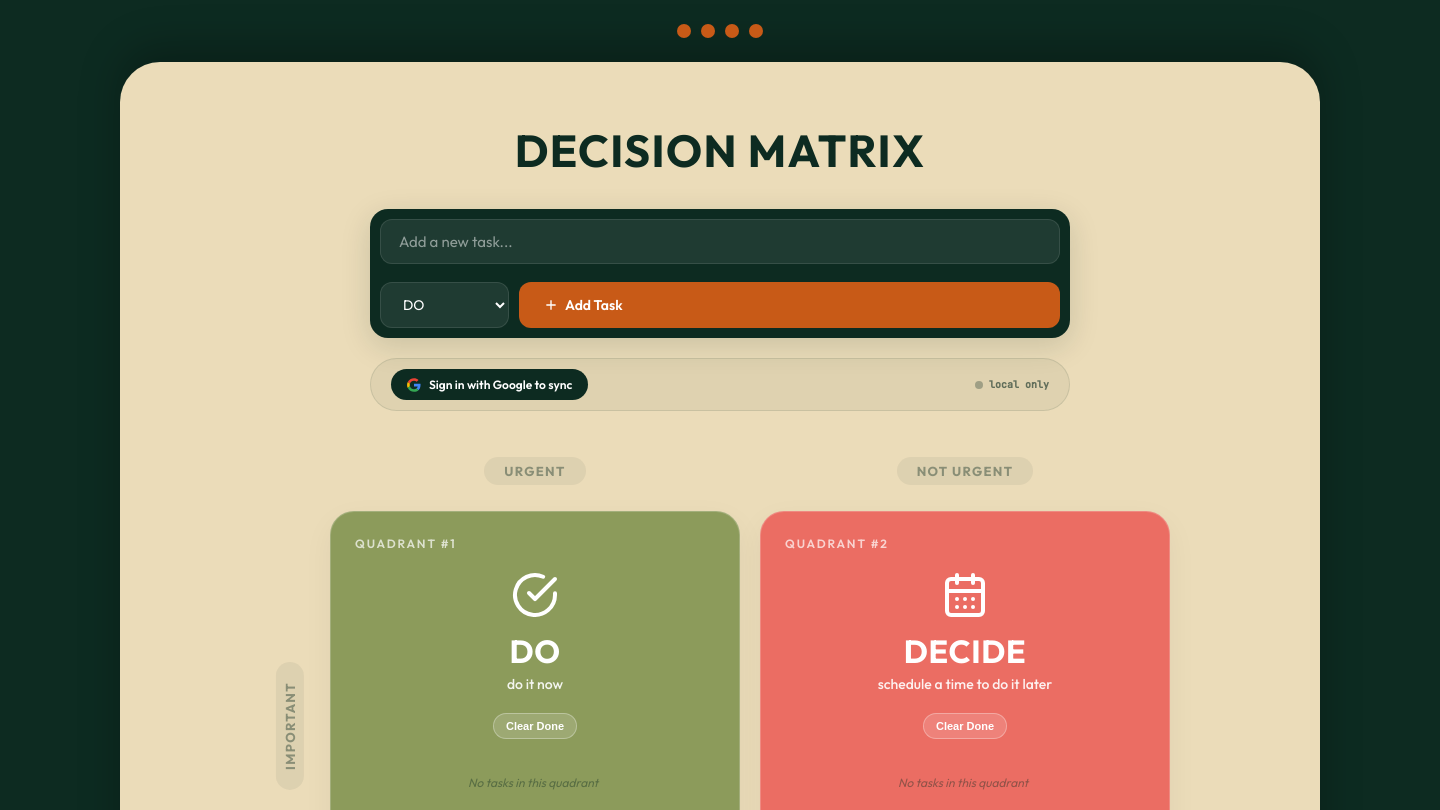
Test: App Integration Tests › cycles a task to the Schedule quadrant (requiring date)
Add task to 'Do'
Type "Book flight" into the field with placeholder "Add a new task..." at x=720, y=242, box [380, 219, 1060, 264]
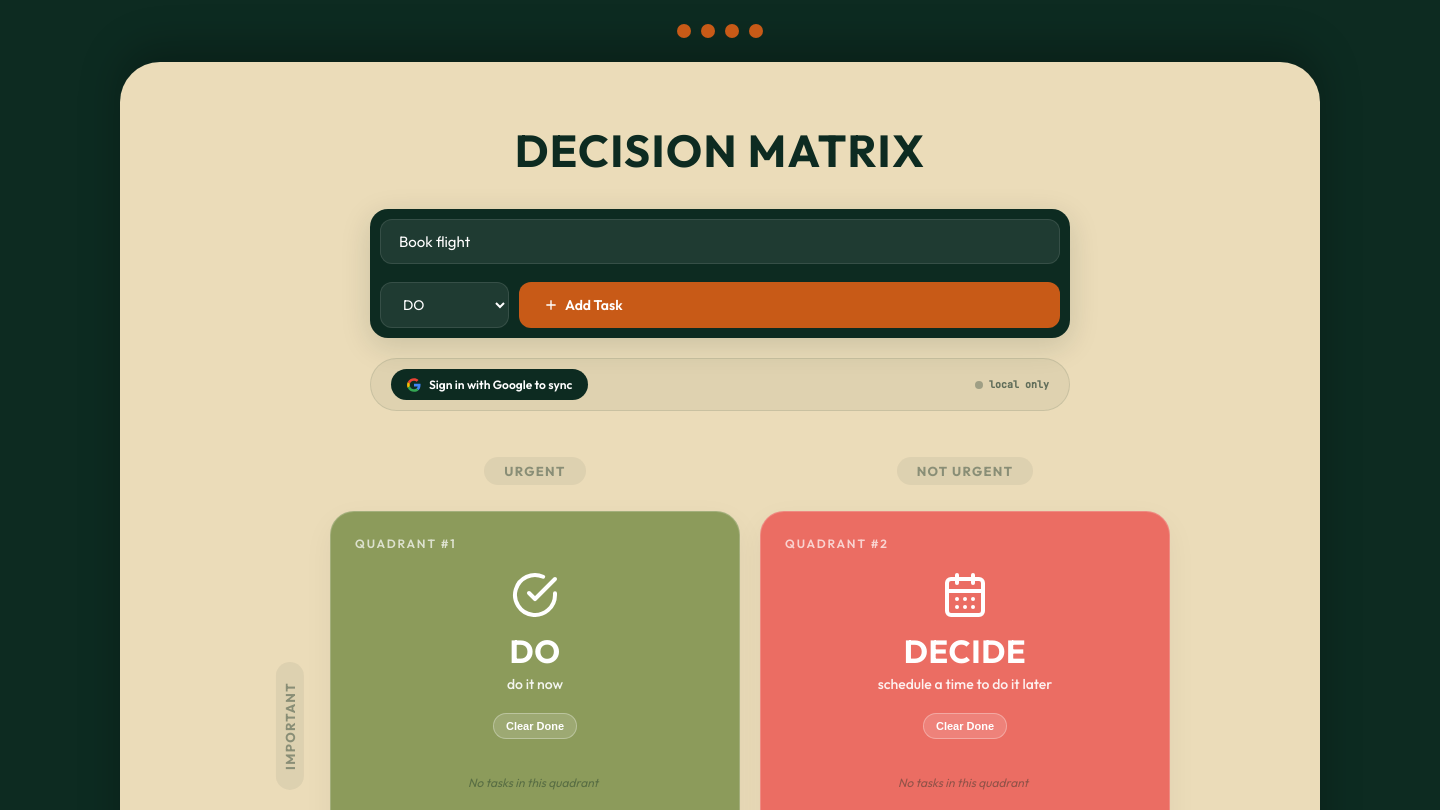
Click the button "Add Task" at x=594, y=305, box [519, 282, 1060, 328]
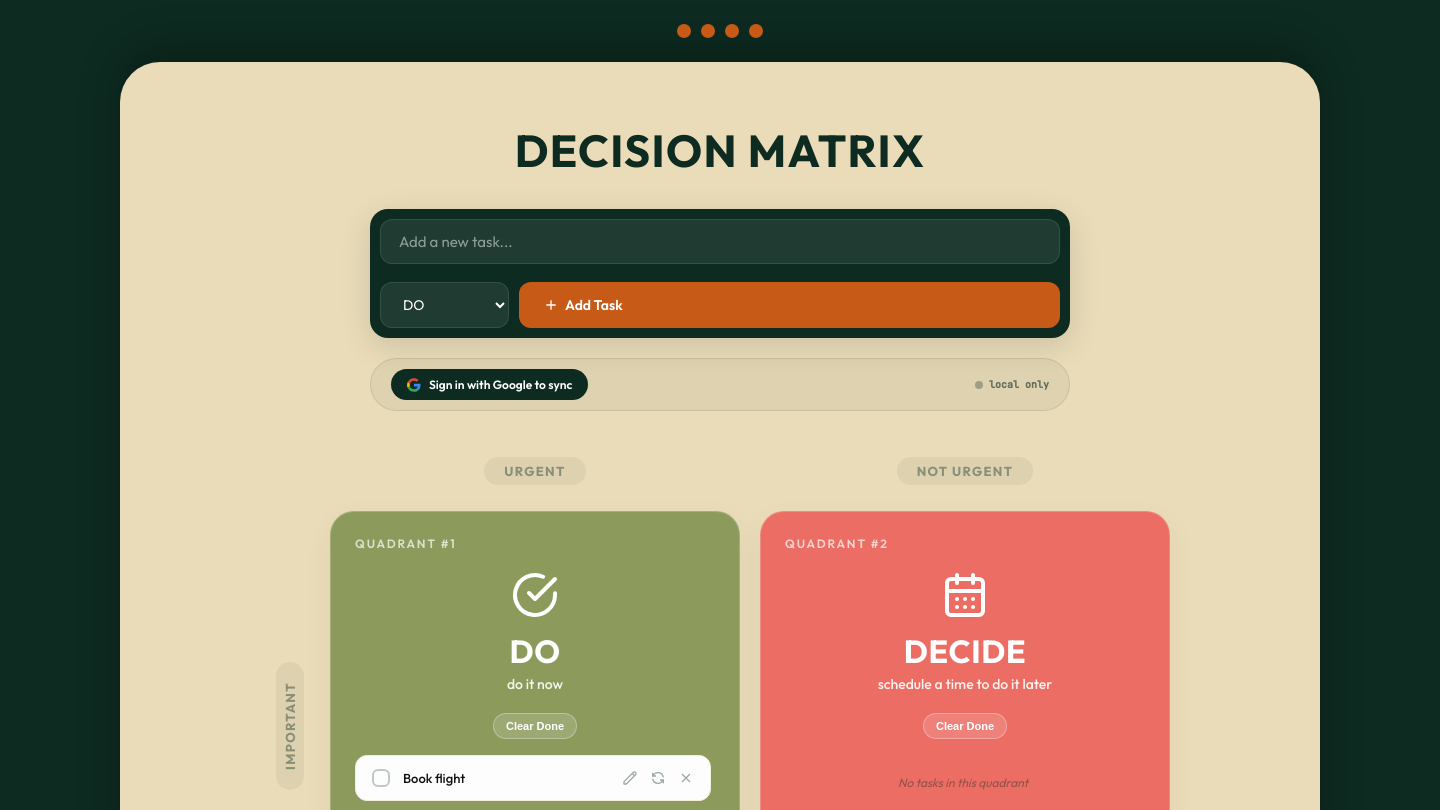
Click Cycle button
Click the button titled "Cycle Quadrant" at x=658, y=778, box [646, 766, 670, 790]
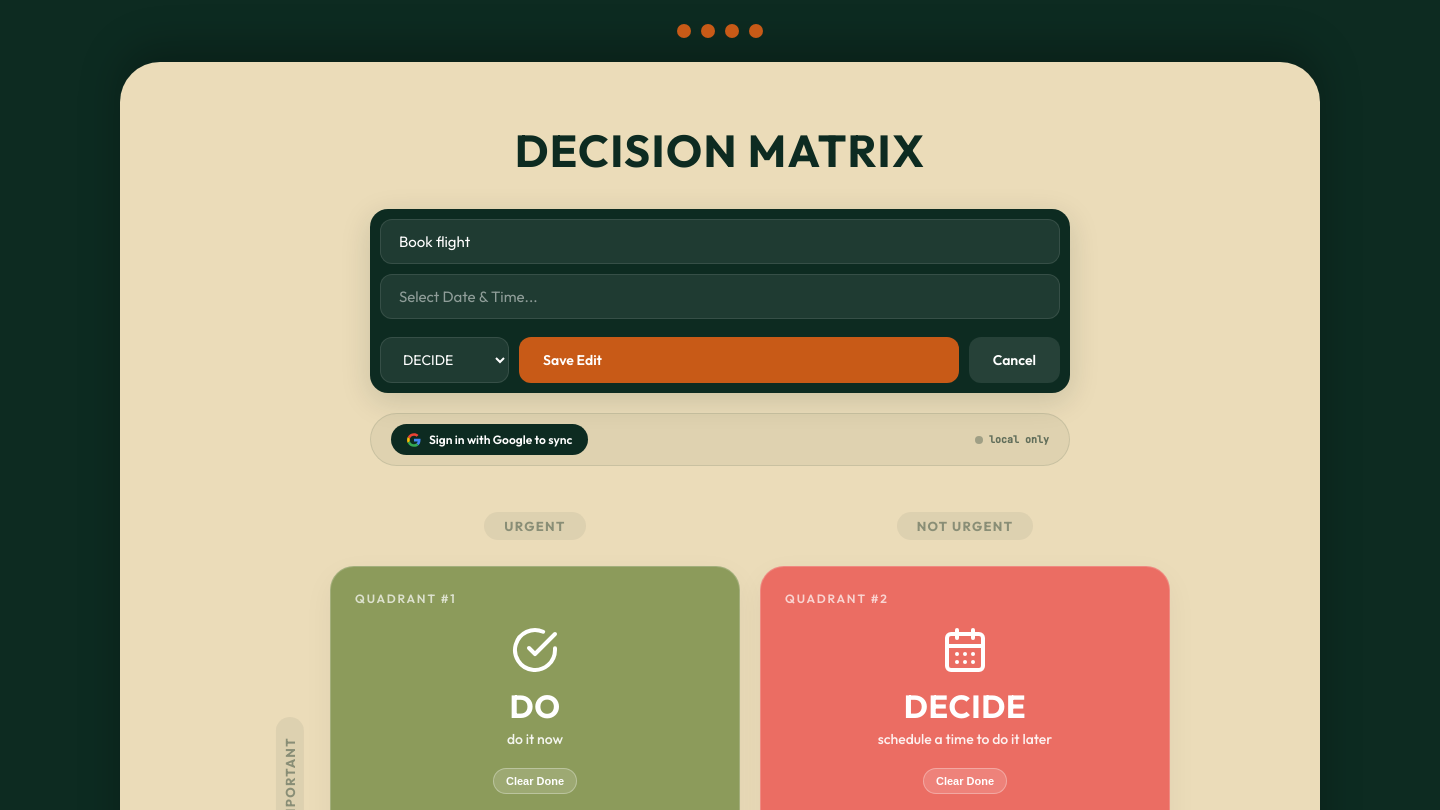
Expected: the button "Save Edit" is shown, [519, 337, 959, 383]
